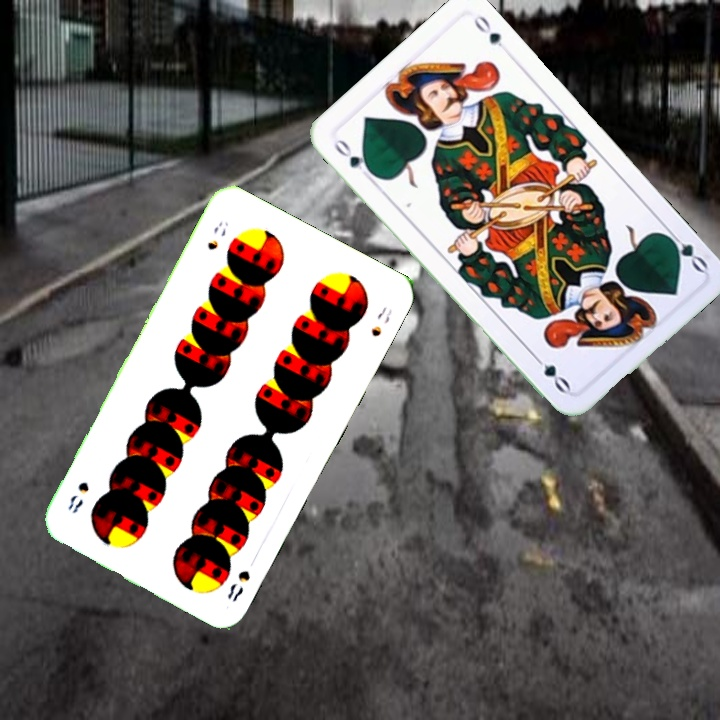GO: (660, 225, 710, 275), (329, 134, 377, 183)
S8: (223, 566, 253, 605), (203, 217, 231, 253)
